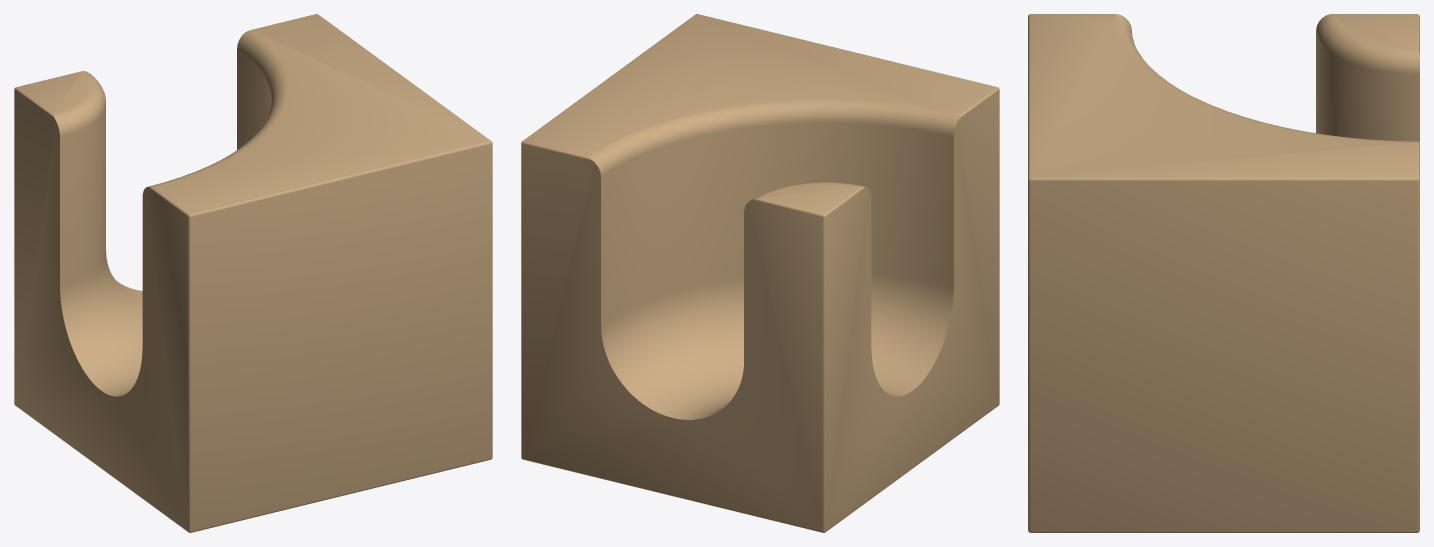
The model's file is blk_curve90_l1.glb.
3 renders of one model, left to right at view 1: azimuth 30°, elevation 25°; view 2: azimuth 150°, elevation 25°; view 3: azimuth 270°, elevation 25°, orthographic. The views are drawn at different scales.
Parts seen in each view (by area): view 1: blk_curve90_l1_lod0; view 2: blk_curve90_l1_lod0; view 3: blk_curve90_l1_lod0.
Boxes of the visible parts, bbox=[...] form: blk_curve90_l1_lod0: bbox=[14, 14, 492, 532]; blk_curve90_l1_lod0: bbox=[521, 14, 999, 532]; blk_curve90_l1_lod0: bbox=[1028, 14, 1419, 532].
Size of what is drawn, in the model's own units: 0.0596 by 0.0596 by 0.0596.
